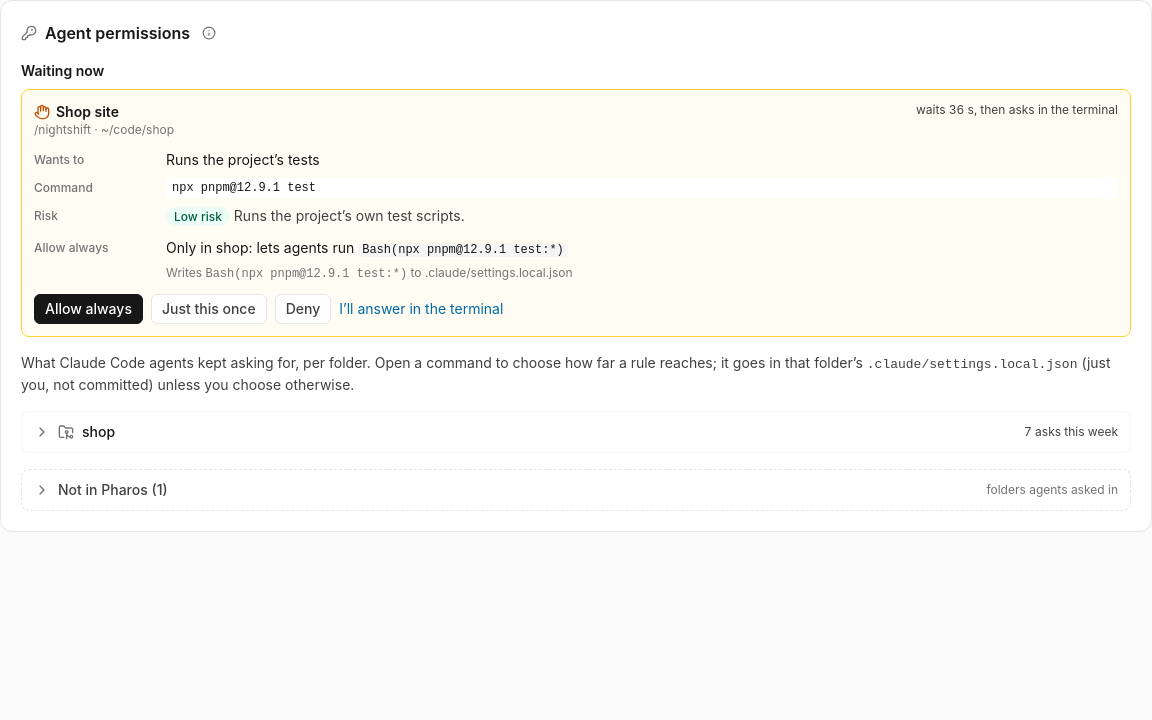
Test case: Agent permissions in Settings › Allow always on a live ask shows the change before writing
The image size is (1152, 720).
Click the button "Allow always" at point(88, 309), box [34,294,143,324]
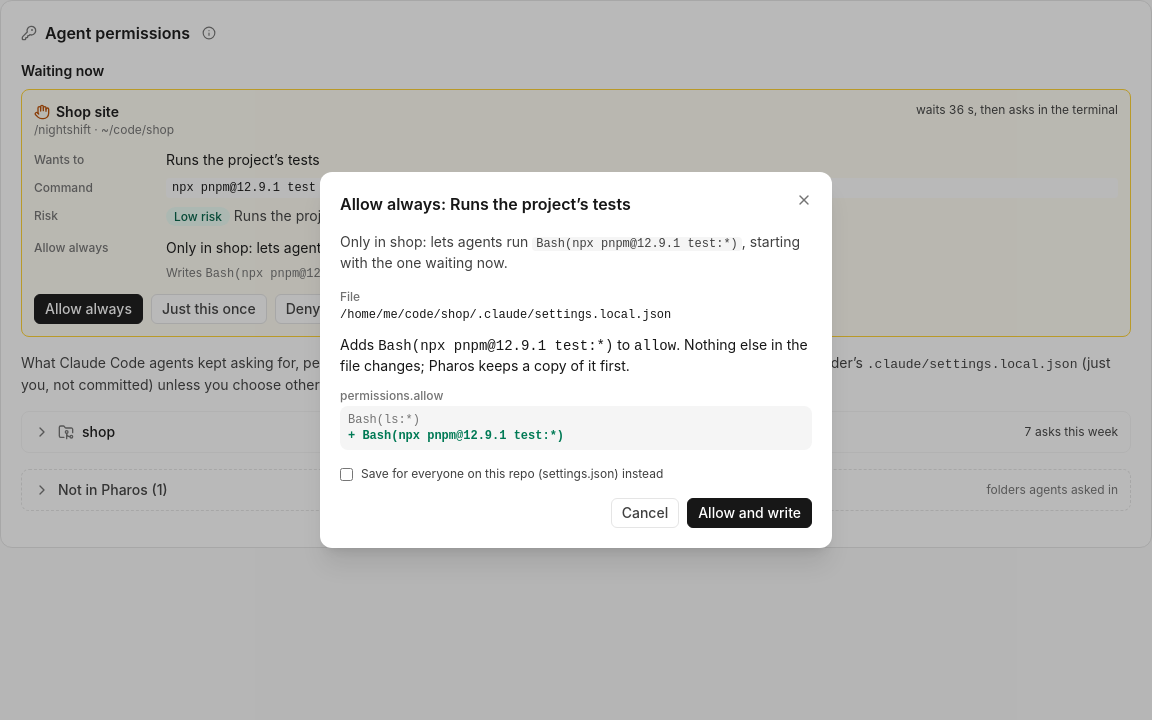
Result: the list item "+ Bash(npx pnpm@12.9.1 test:*)" is shown at [348,429,564,443]
Click the button "Allow and write" at point(750, 513), box [687,498,812,528]
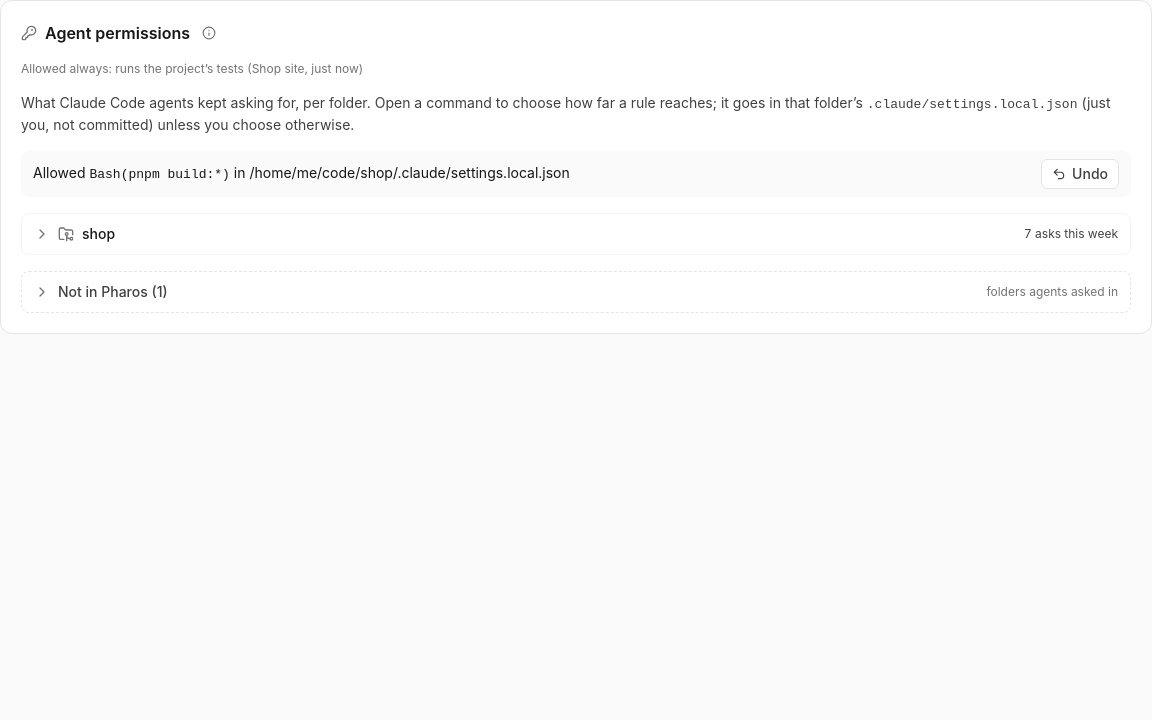
Result: the message is shown at [21,151,1131,197]
